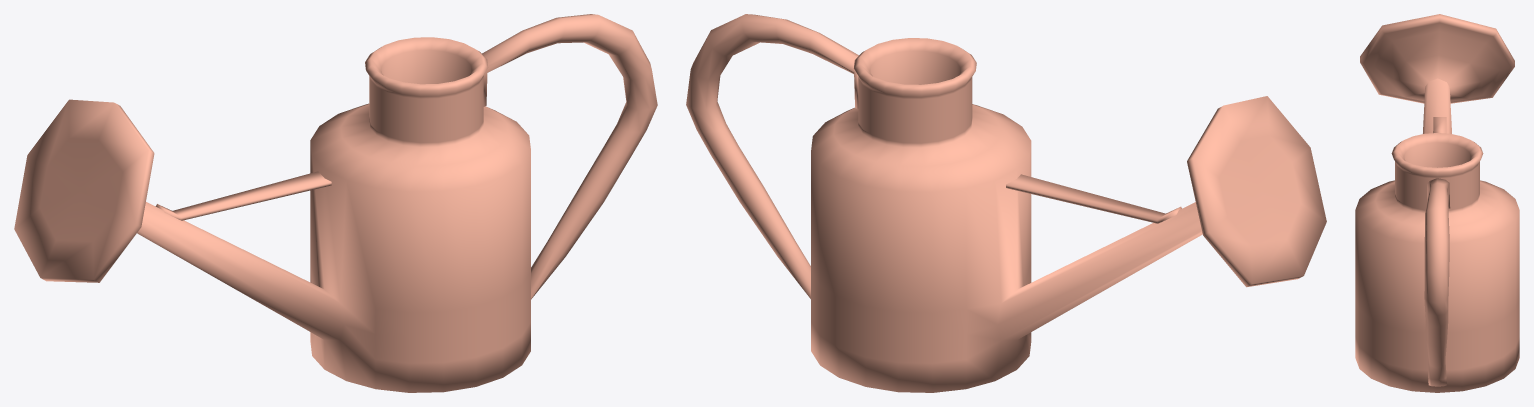
Rendered from msh_regadera.fbx.
3 renders of one model, left to right at view 1: azimuth 30°, elevation 25°; view 2: azimuth 150°, elevation 25°; view 3: azimuth 270°, elevation 25°, orthographic. The views are drawn at different scales.
Visible parts, largest first — view 1: Cylinder; view 2: Cylinder; view 3: Cylinder.
Part boxes in pixels (<box>): Cylinder: <box>14,14,657,392</box>; Cylinder: <box>686,14,1326,392</box>; Cylinder: <box>1355,14,1519,392</box>.
Size of the model in its own units: 181 by 88.94 by 56.43.
